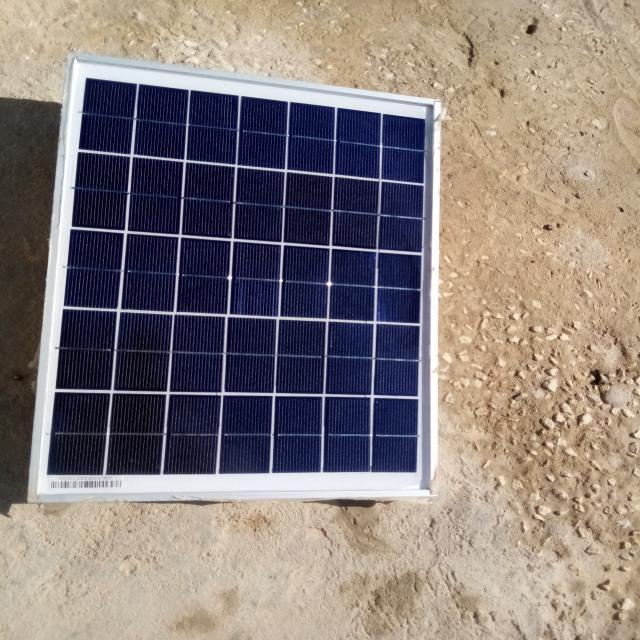no faulty: (31, 57, 439, 502)
